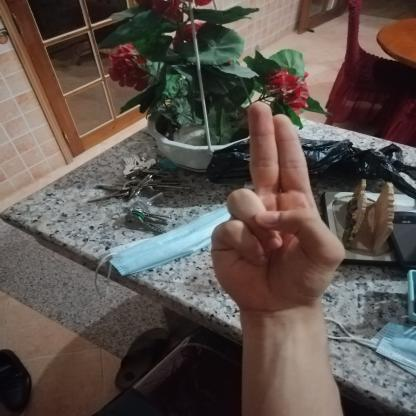TA: (193, 94, 356, 324)
